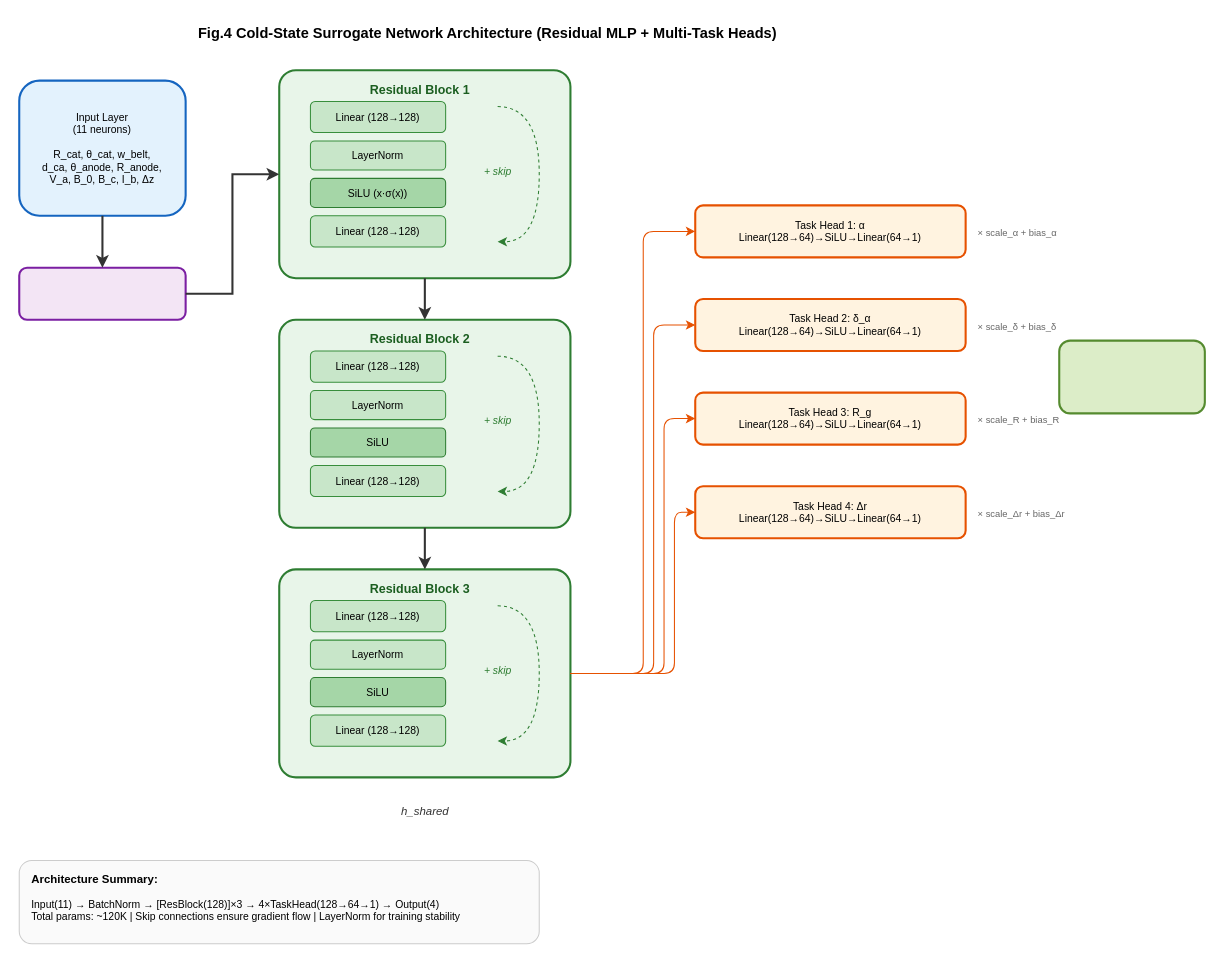
The diagram is 1223 pixels wide and 962 high, and some of its shapes have lost their labels. Each missing label, with the centre of its shape:
BatchNorm (feature normalization): the point at 102,293
Output (4 targets) [α, δ_α, R_g, Δr] (physical scale): the point at 1131,376
